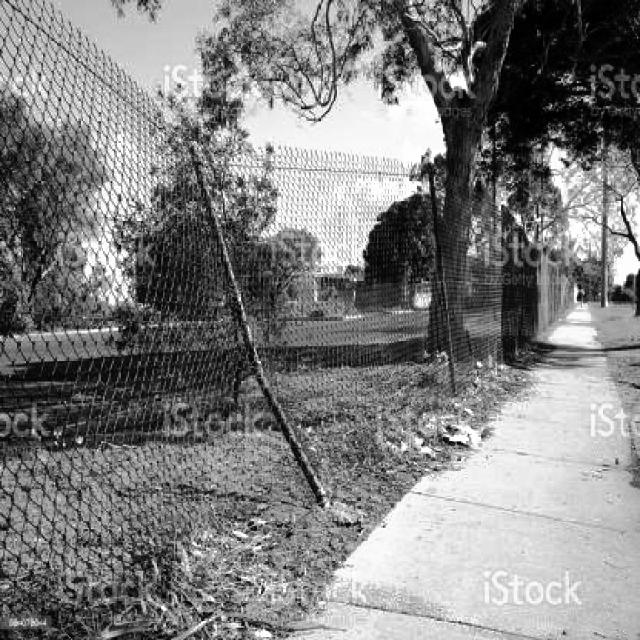anomaly-fence: (137, 80, 322, 474)
